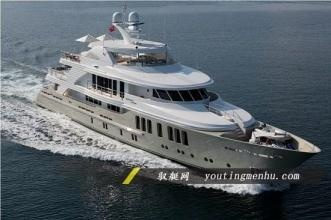yacht: (26, 9, 321, 178)
